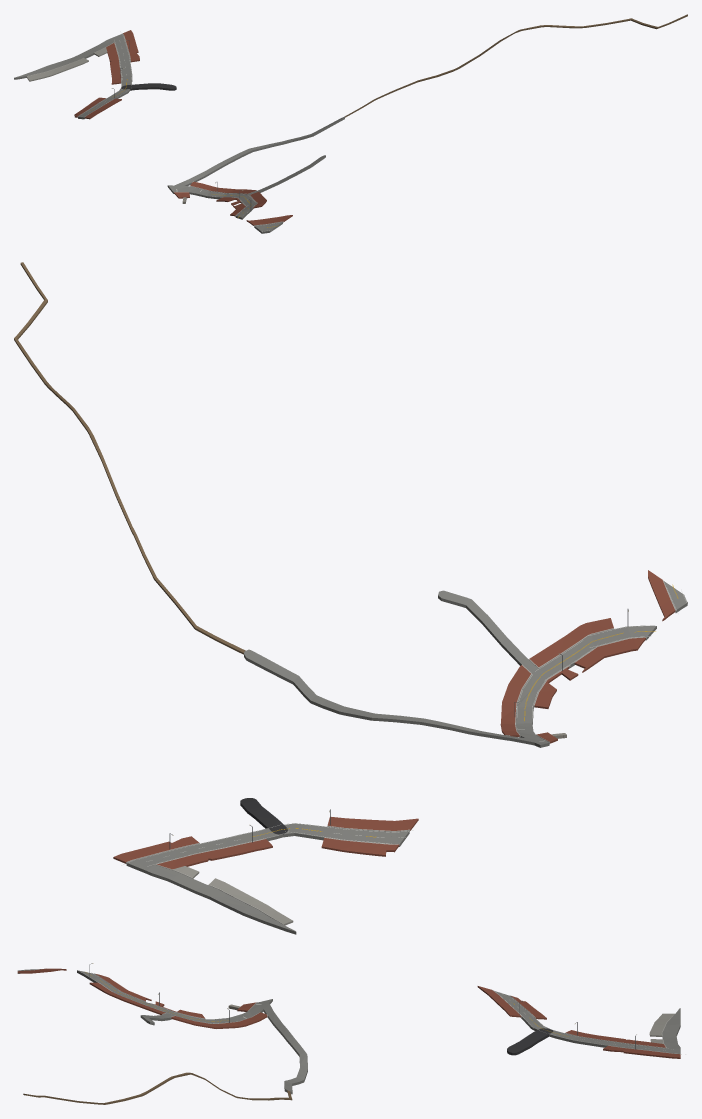
The picture shows the model from 3 angles, top to bottom: view 1: azimuth 30°, elevation 25°; view 2: azimuth 150°, elevation 25°; view 3: azimuth 270°, elevation 25°; orthographic projection. The views are drawn at different scales.
Size of the model in its own units: 287 by 91.89 by 296.
